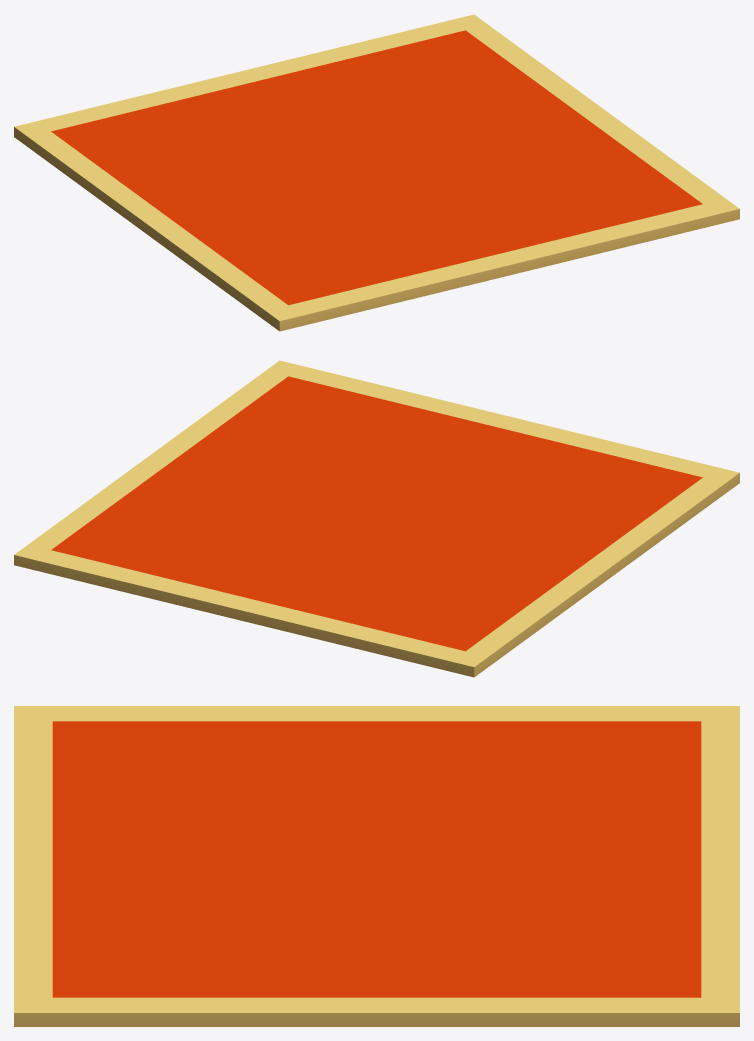
Rendered from squarerug.glb.
3 views of the same model, one above another, from view 1: azimuth 30°, elevation 25°; view 2: azimuth 150°, elevation 25°; view 3: azimuth 270°, elevation 25° (orthographic). The views are drawn at different scales.
Parts seen in each view (by area): view 1: SquareRug; view 2: SquareRug; view 3: SquareRug.
Part boxes in pixels (x1,y1,x2,y2): SquareRug: [14, 14, 739, 331]; SquareRug: [14, 360, 739, 677]; SquareRug: [14, 706, 739, 1026].
Size of the model in its own units: 1.4 by 0.03 by 1.4.
Materials: 1 (1 with a texture image).
